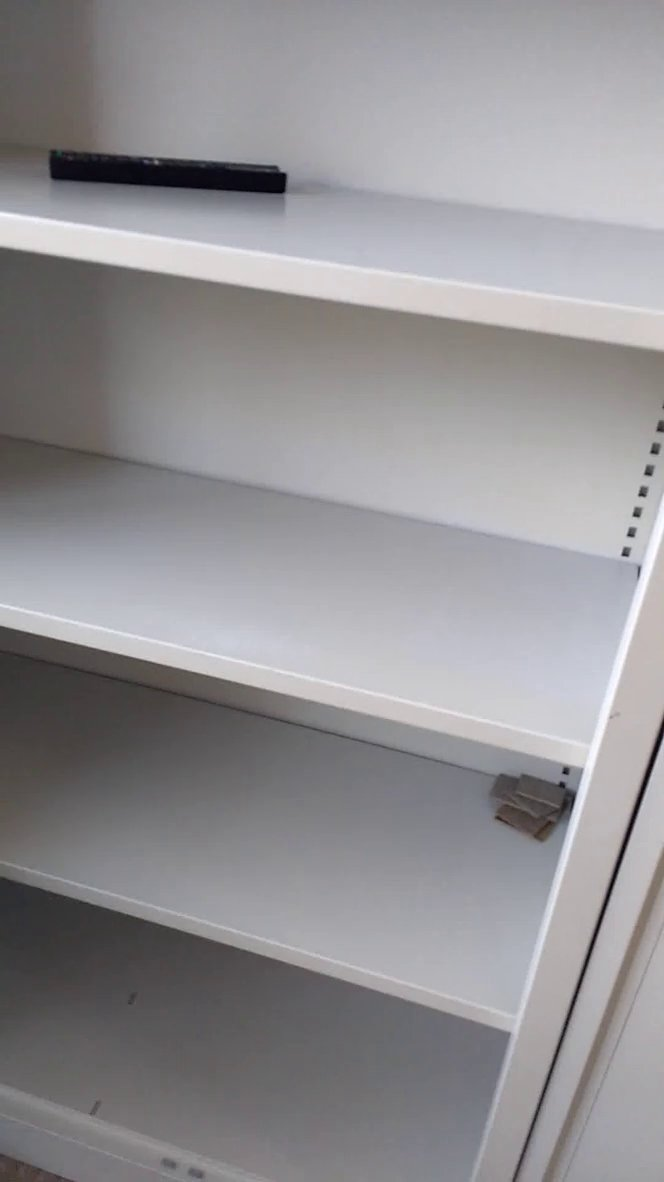remote: (34, 131, 302, 208)
